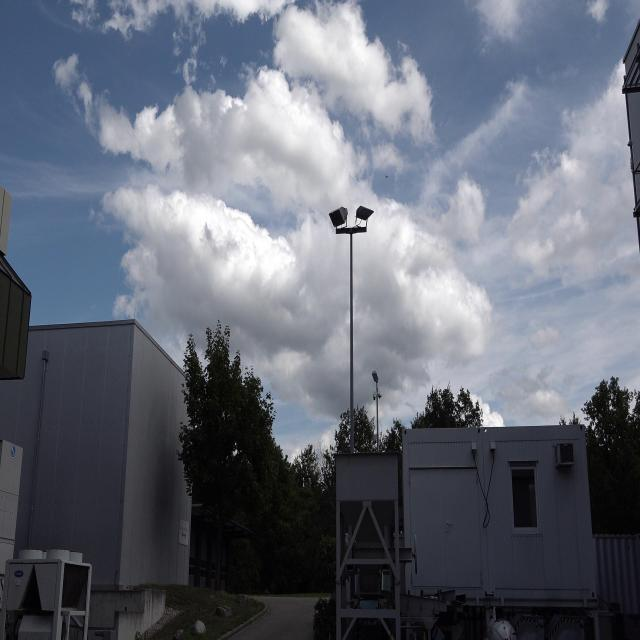drone: (384, 172, 392, 182)
